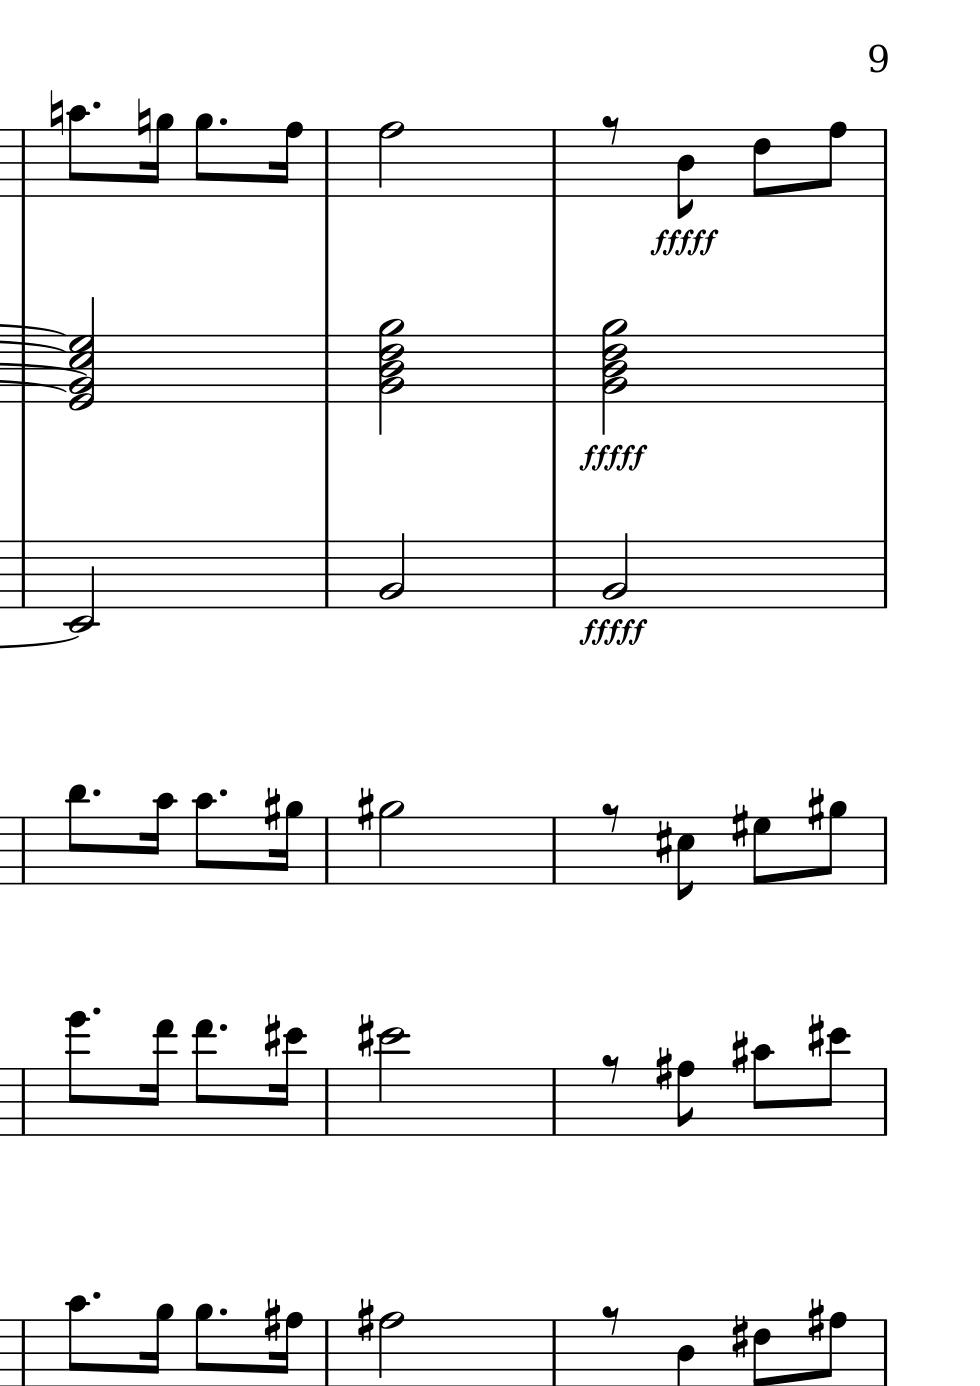16_10: (141, 791, 175, 885)
16_12: (272, 1025, 307, 1138)
16_13: (140, 1018, 176, 1138)
16_8: (269, 120, 303, 197), (270, 1312, 304, 1386)
16_9: (141, 1301, 174, 1386), (143, 112, 174, 200), (272, 800, 302, 887)
2_-2: (67, 538, 98, 635)
2_12: (375, 1027, 406, 1139)
2_2: (377, 530, 407, 610), (601, 531, 630, 610)
2_4th: (601, 315, 629, 434), (377, 317, 404, 435), (70, 296, 98, 413)
2_8: (377, 1309, 405, 1386), (377, 120, 404, 199)
2_9: (377, 799, 405, 885)
8_10: (749, 1041, 776, 1137), (191, 791, 216, 887), (66, 1294, 89, 1386), (66, 104, 88, 199)
8_11: (66, 783, 89, 887)
8_12: (813, 1025, 848, 1138)
8_13: (191, 1017, 218, 1138)
8_14: (64, 1008, 92, 1140)
8_4: (675, 127, 697, 221)
8_5: (675, 815, 697, 901)
8_6: (750, 1317, 773, 1386), (751, 127, 772, 199)
8_7: (750, 815, 773, 887)
8_8: (817, 120, 847, 199), (820, 1310, 848, 1386), (673, 1060, 696, 1138)
8_9: (819, 799, 848, 885), (192, 1303, 215, 1386), (192, 112, 214, 198)
9: (868, 42, 888, 73)
Natural: (134, 97, 152, 145), (48, 88, 64, 137)
Rests8: (600, 1301, 623, 1336), (600, 800, 622, 835), (600, 1052, 622, 1086), (600, 113, 622, 146)
Sharp: (729, 802, 750, 850), (261, 785, 281, 832), (262, 1013, 282, 1060), (355, 1012, 375, 1059), (805, 786, 825, 832), (729, 1313, 749, 1359), (355, 785, 374, 834), (653, 820, 672, 867), (261, 1296, 280, 1343), (355, 1296, 374, 1343), (805, 1297, 824, 1343), (654, 1046, 672, 1092), (730, 1029, 748, 1075), (807, 1013, 825, 1058)
Single_barline: (317, 130, 335, 196), (545, 130, 563, 196), (545, 336, 563, 402), (876, 817, 893, 884), (876, 541, 893, 608), (14, 817, 31, 883), (14, 130, 31, 196), (876, 336, 893, 402), (14, 1069, 31, 1135), (545, 1320, 562, 1385), (876, 1320, 893, 1385), (877, 129, 893, 197), (318, 541, 334, 608), (546, 541, 562, 608), (546, 817, 562, 883), (14, 1321, 31, 1384), (318, 336, 334, 402), (14, 541, 30, 607), (318, 818, 334, 883), (876, 1069, 892, 1134), (318, 1070, 334, 1134), (318, 1321, 334, 1384), (546, 1069, 561, 1135)
dot: (89, 1289, 102, 1302), (90, 786, 102, 800), (90, 100, 102, 112), (217, 787, 229, 800), (90, 1005, 102, 1018), (217, 116, 228, 128), (217, 1306, 228, 1319), (218, 1022, 229, 1034)
fffff: (646, 224, 721, 263), (576, 616, 650, 649), (577, 441, 647, 472)
